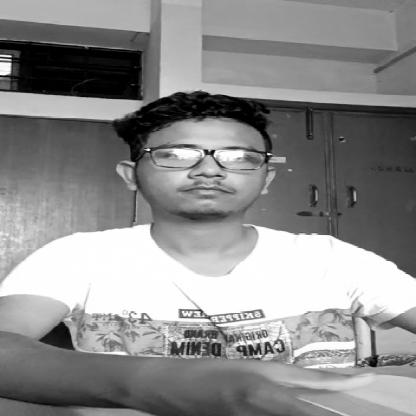Normal: (100, 123, 276, 228)
